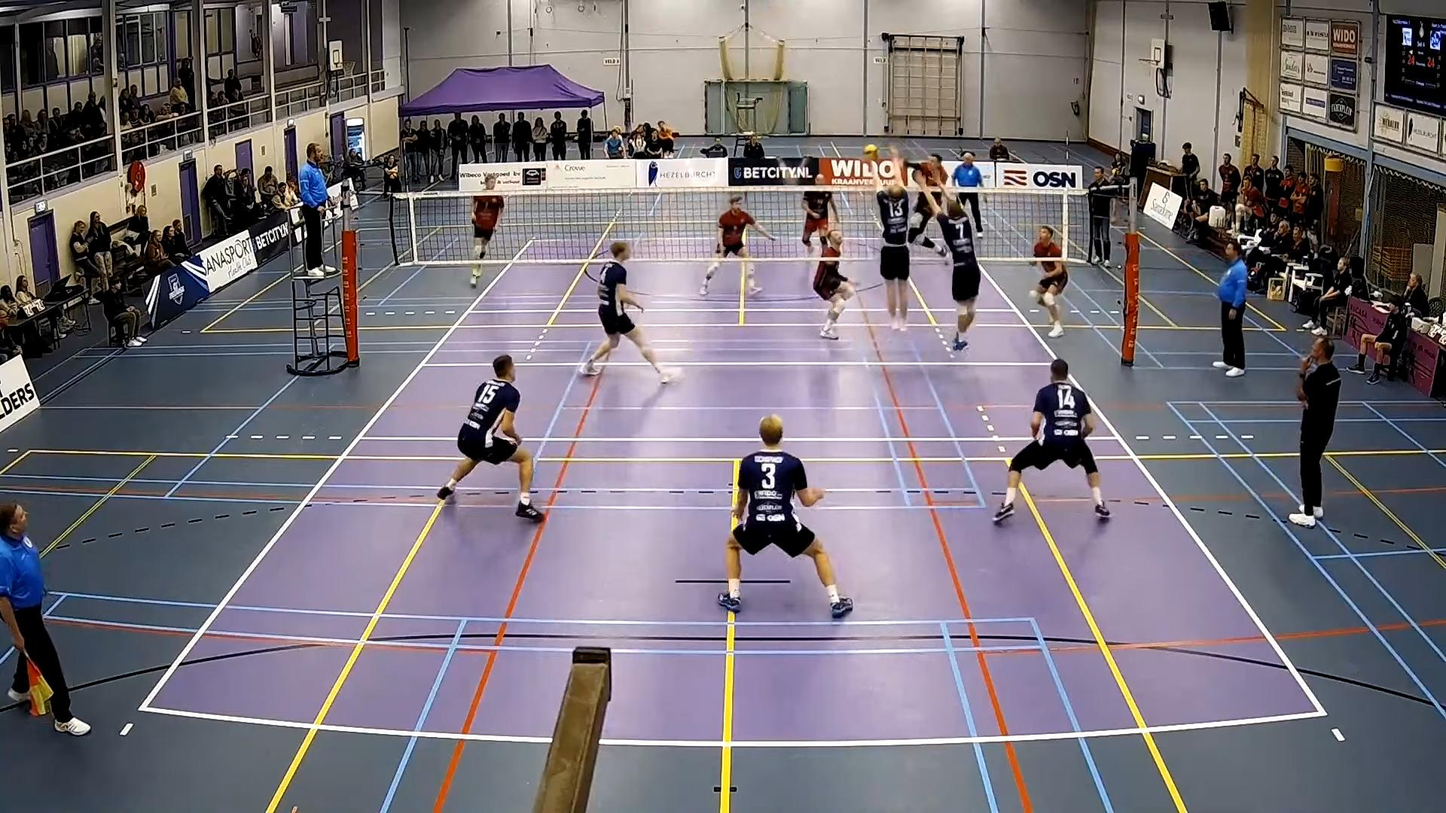Attack: (905, 143, 953, 265)
Block: (921, 163, 986, 353), (869, 160, 916, 338)
Player: (718, 415, 853, 617), (993, 358, 1109, 522), (437, 355, 544, 521), (581, 241, 676, 383), (700, 194, 775, 295), (813, 230, 855, 340), (1032, 225, 1068, 337), (471, 193, 504, 286), (801, 188, 839, 253)
ball: (864, 143, 884, 156)
